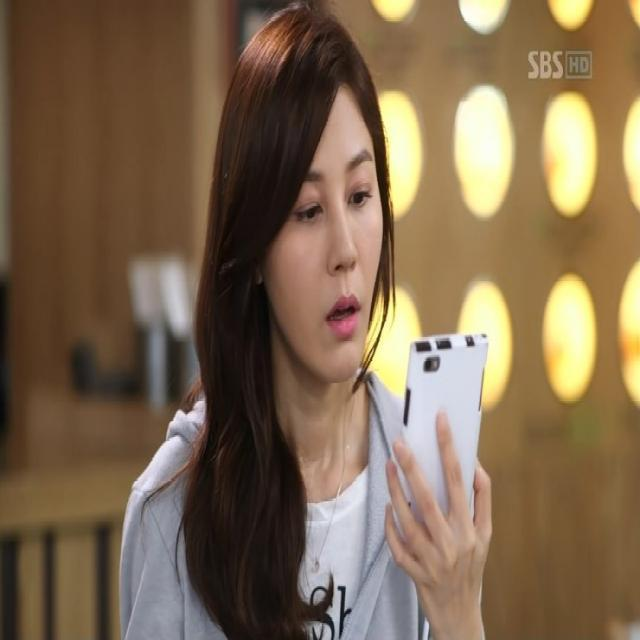Phone: (398, 329, 486, 503)
